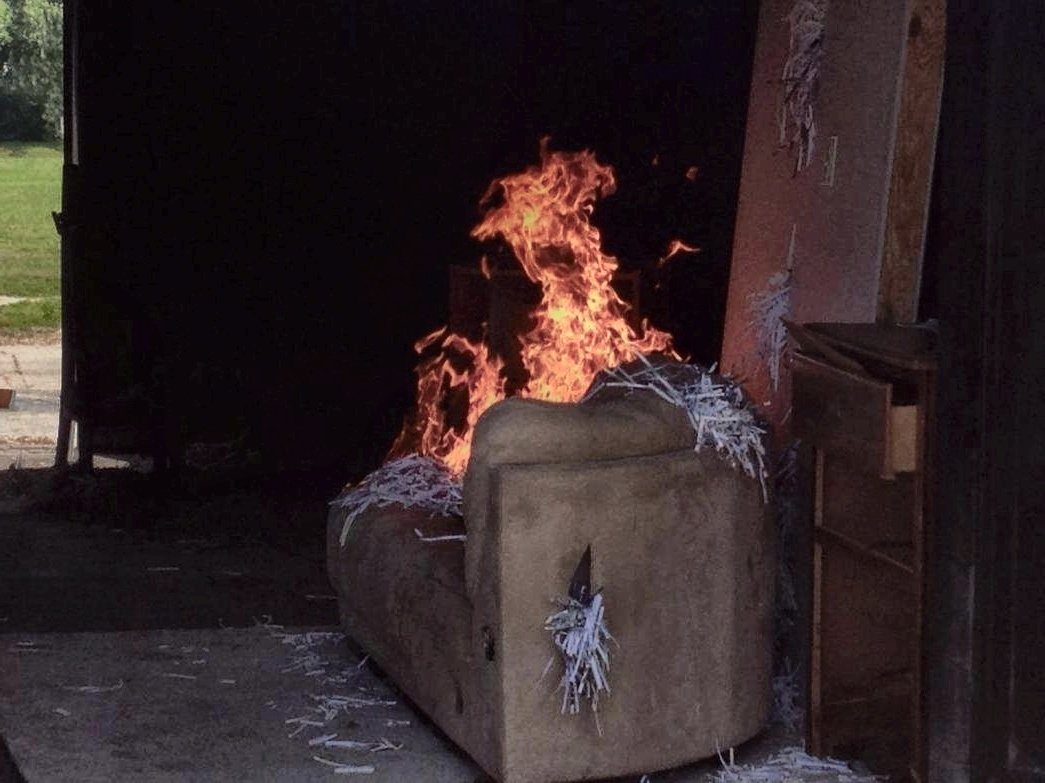fire: (410, 141, 673, 446)
